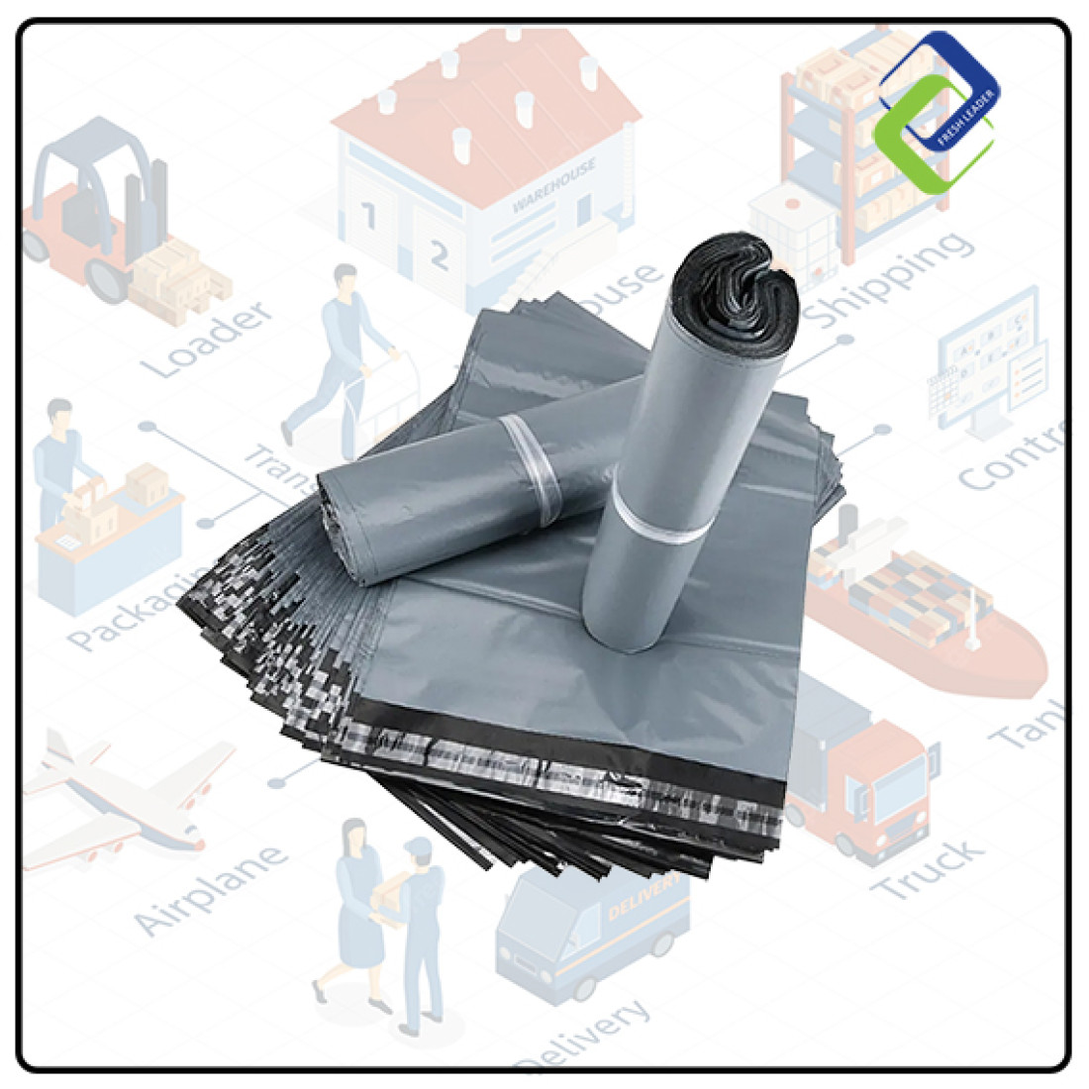塑料袋: (178, 234, 845, 879)
